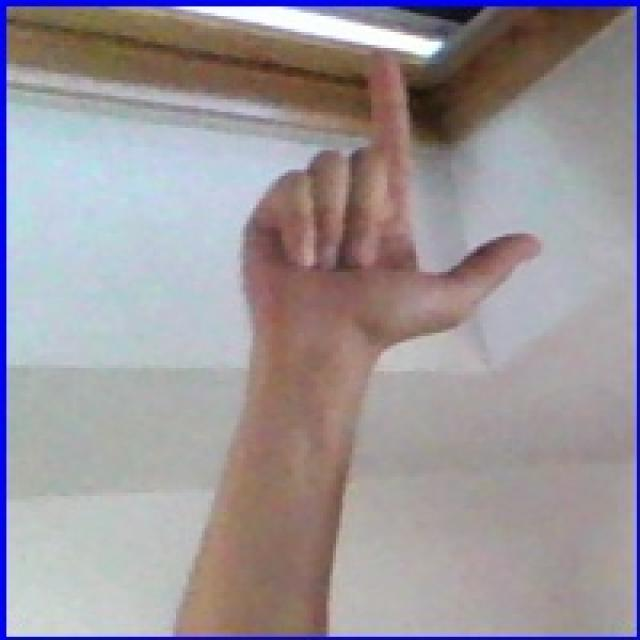Letra L: (208, 31, 563, 399)
